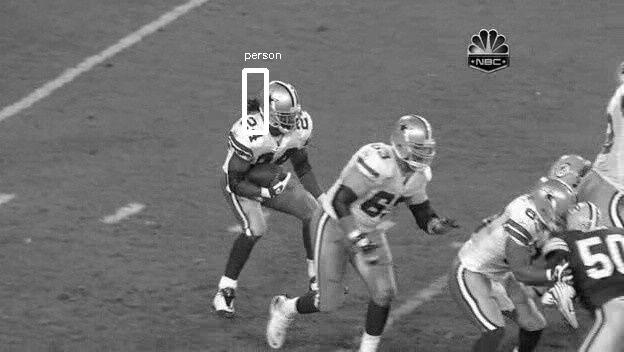person: (265, 83, 301, 129), (264, 83, 300, 129), (266, 83, 302, 129), (265, 82, 301, 128), (265, 84, 301, 130)
target_negative: (390, 95, 581, 255), (538, 12, 598, 346), (366, 286, 592, 325), (519, 274, 620, 338), (473, 113, 512, 181), (584, 329, 591, 336)
